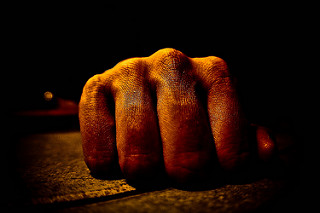fist: (69, 55, 278, 181)
